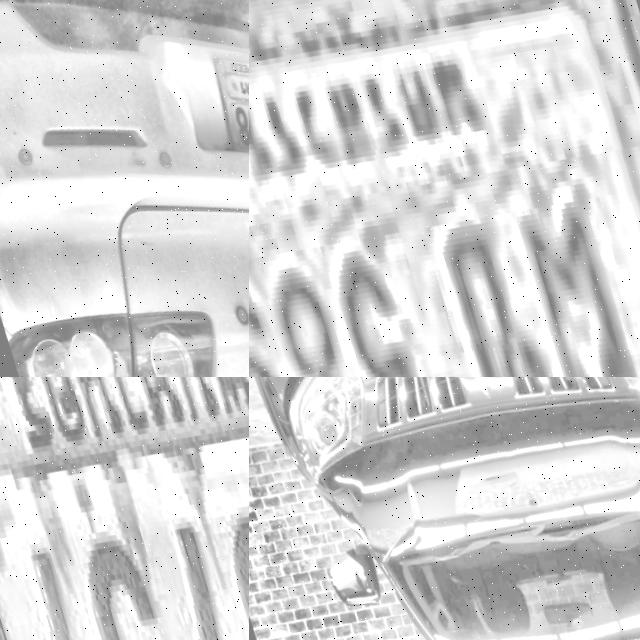license-plate: (249, 0, 640, 377), (0, 377, 249, 640), (202, 34, 249, 184)
